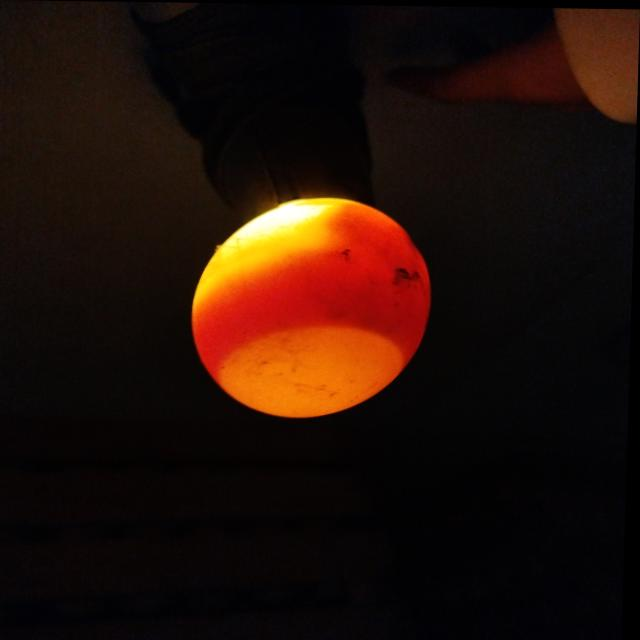Area Infectada: (351, 253, 429, 296)
